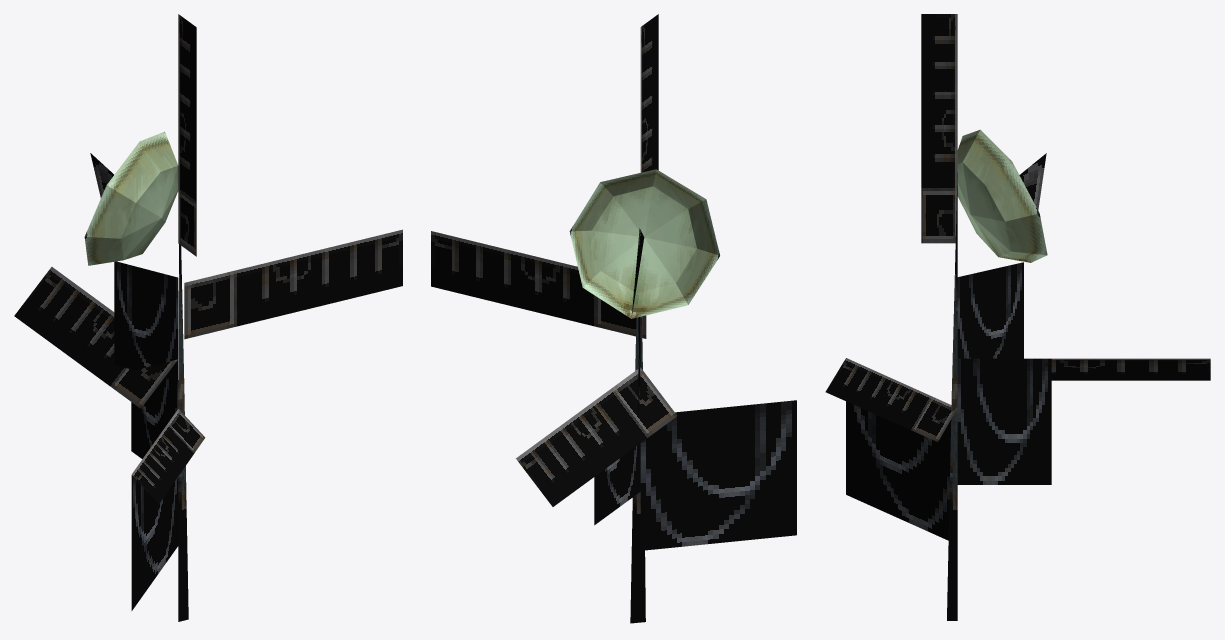
The picture shows the model from 3 angles, left to right: view 1: azimuth 30°, elevation 25°; view 2: azimuth 150°, elevation 25°; view 3: azimuth 270°, elevation 25°; orthographic projection.
Visible parts, largest first — view 1: nprim206-big aerial.002; view 2: nprim206-big aerial.002; view 3: nprim206-big aerial.002.
Part boxes in pixels (<box>): nprim206-big aerial.002: <box>14,14,402,621</box>; nprim206-big aerial.002: <box>431,14,796,623</box>; nprim206-big aerial.002: <box>825,14,1210,620</box>.
Bounding box in the file's own units: 375 × 678 × 390.
Materials: 3 (3 with a texture image).
